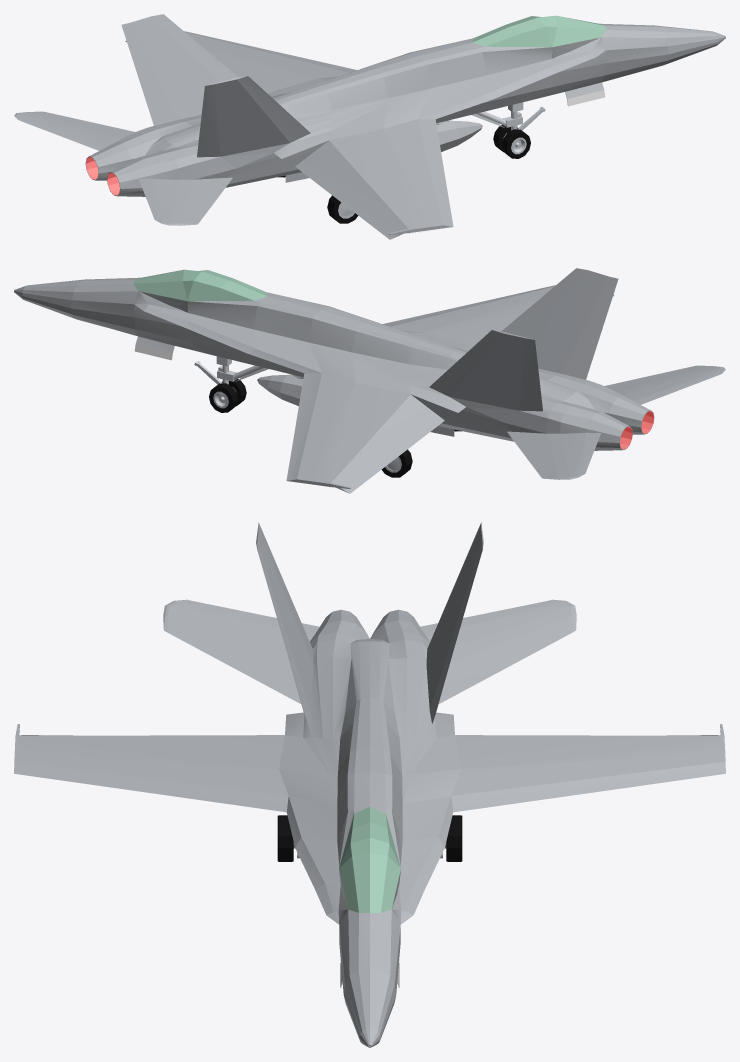
The model's file is f18geardown.glb.
3 renders of one model, top to bottom at view 1: azimuth 30°, elevation 25°; view 2: azimuth 150°, elevation 25°; view 3: azimuth 270°, elevation 25°, orthographic. The views are drawn at different scales.
Parts seen in each view (by area): view 1: aircraft_0; view 2: aircraft_0; view 3: aircraft_0.
Part boxes in pixels (<box>): aircraft_0: <box>14,14,725,239</box>; aircraft_0: <box>14,268,725,493</box>; aircraft_0: <box>14,522,725,1047</box>.
Bounding box in the file's own units: 17 × 4.7 × 12.3.
